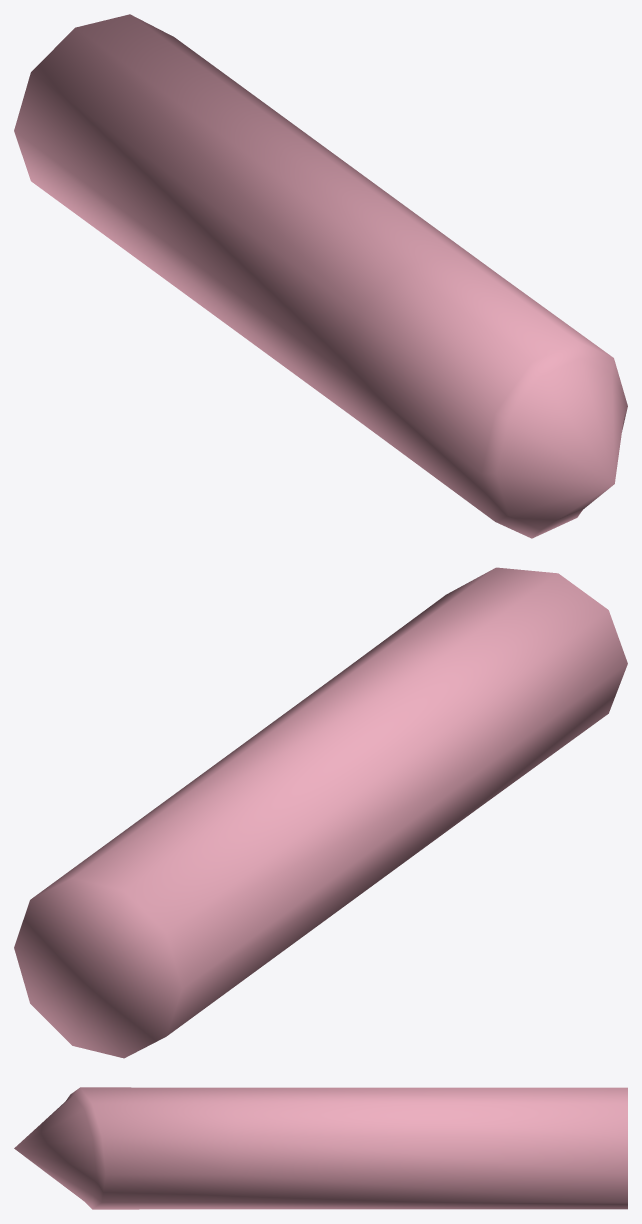
File: Cig.fbx
The picture shows the model from 3 angles, top to bottom: view 1: azimuth 30°, elevation 25°; view 2: azimuth 150°, elevation 25°; view 3: azimuth 270°, elevation 25°; orthographic projection. The views are drawn at different scales.
Visible parts, largest first — view 1: Cig; view 2: Cig; view 3: Cig.
Part boxes in pixels (box(x1,y1,x2,y2)): Cig: box(14, 14, 627, 538); Cig: box(14, 567, 627, 1058); Cig: box(14, 1087, 627, 1209).
Size of the model in its own units: 2.02 by 1.9 by 10.
